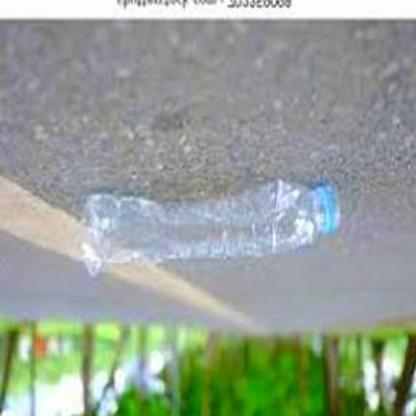plastic bottle: (79, 182, 339, 267)
